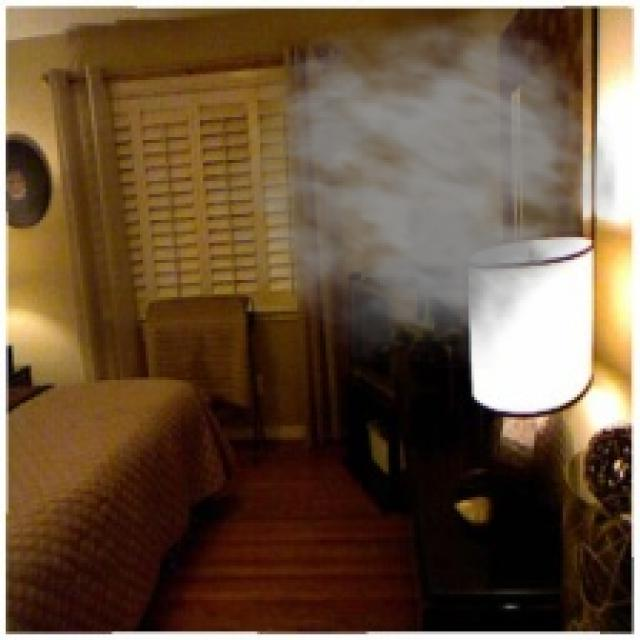smoke: (203, 6, 620, 368)
